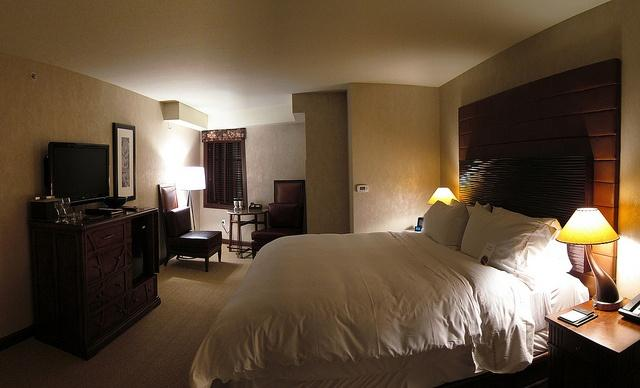AIO PC-Monitor-TV: (46, 140, 110, 207)
Kursi: (156, 181, 222, 270)
